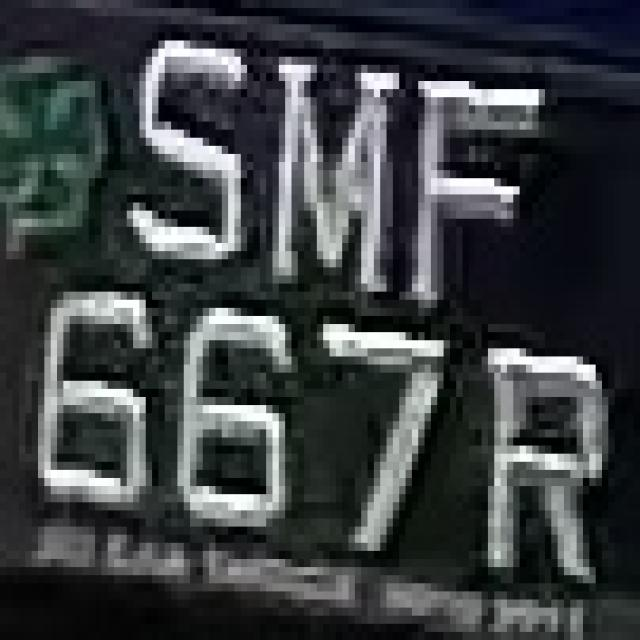6: (12, 267, 178, 543), (171, 284, 311, 559)
7: (285, 292, 456, 583)
F: (399, 49, 545, 308)
M: (254, 48, 406, 292)
R: (475, 308, 621, 607)
S: (114, 25, 254, 284)
